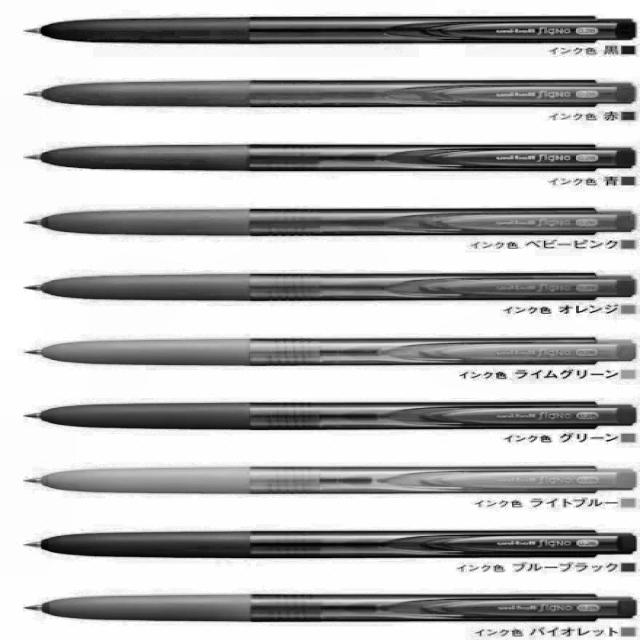Pen: (24, 515, 638, 561), (10, 137, 639, 175), (19, 70, 638, 108), (21, 460, 638, 498), (19, 333, 638, 370), (13, 8, 639, 44), (22, 588, 638, 624), (9, 396, 638, 431), (17, 266, 638, 301), (17, 202, 638, 236)
